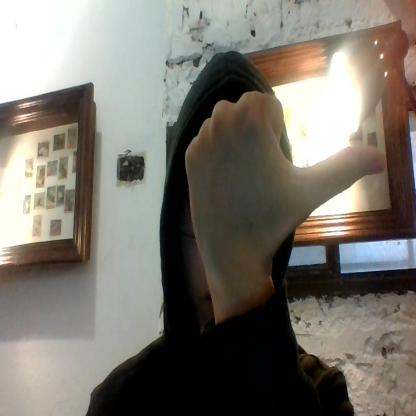left: (180, 88, 388, 252)
